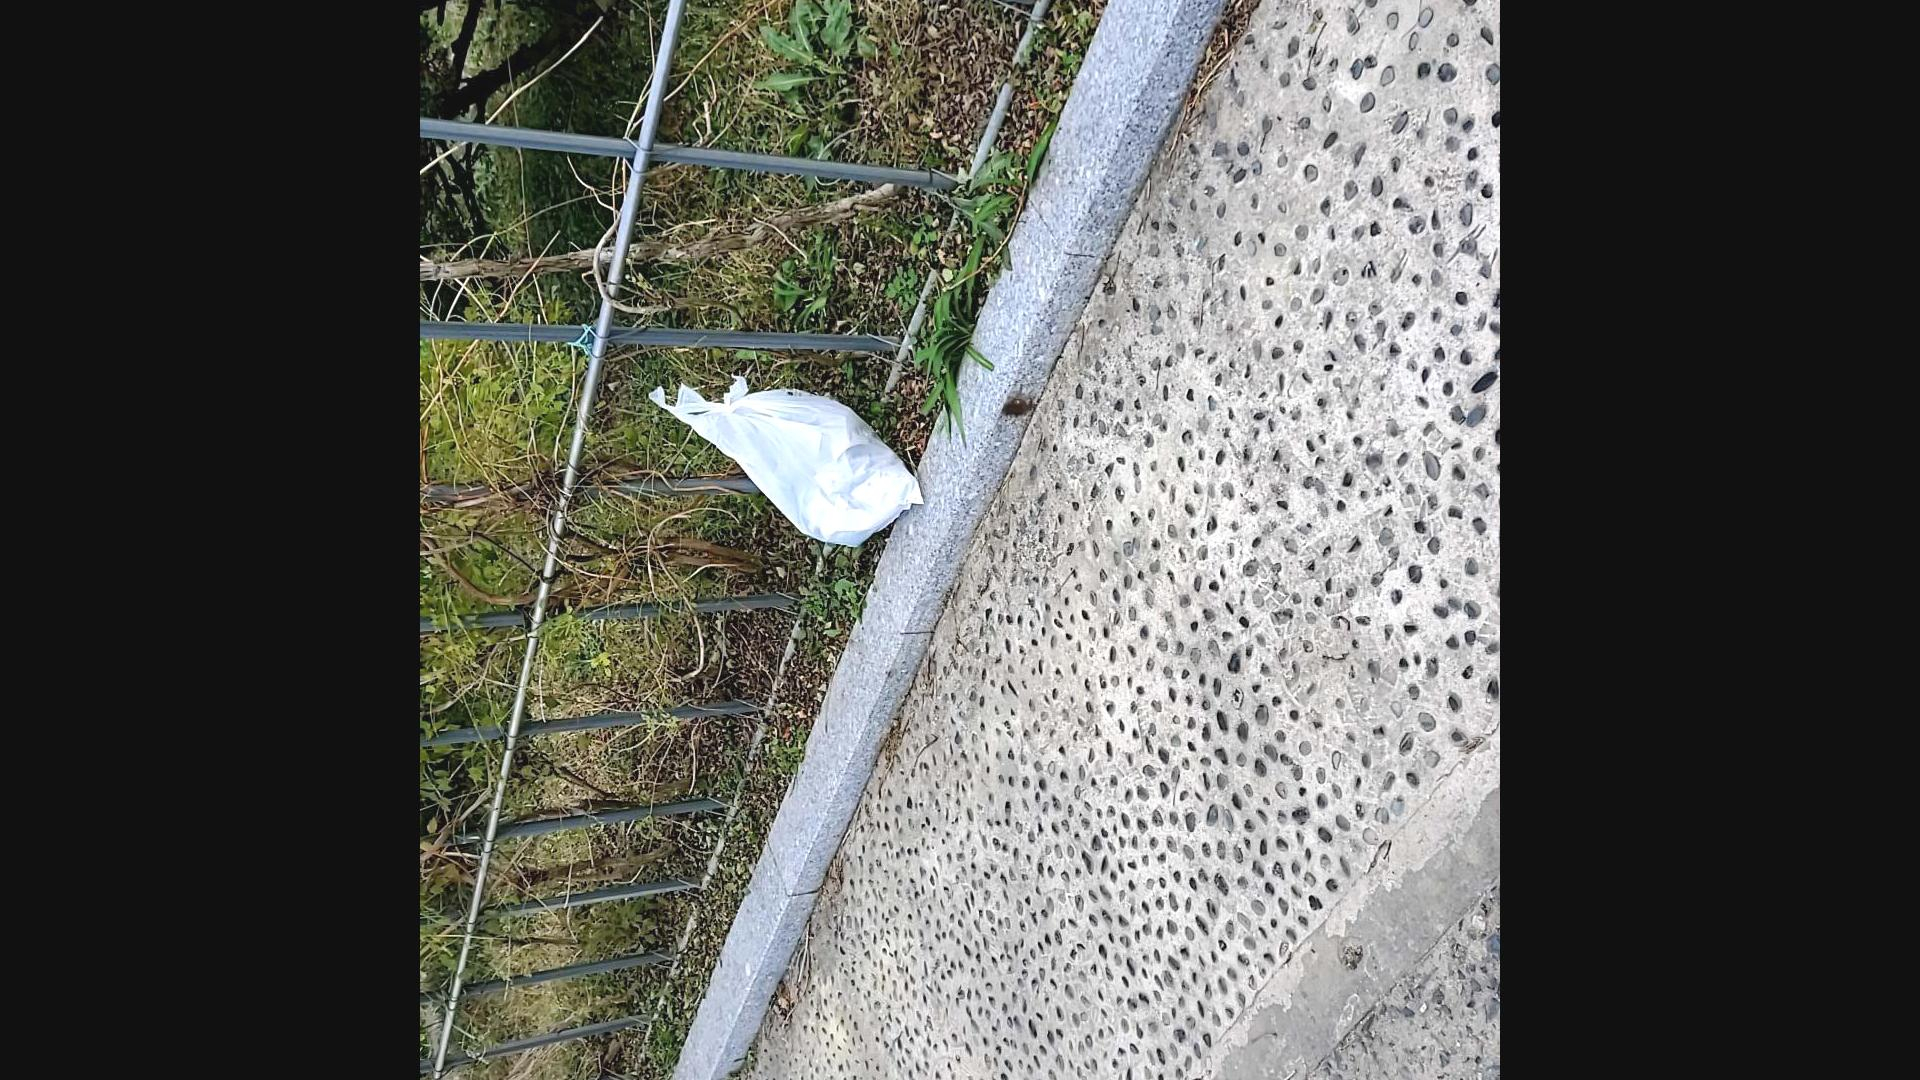white_bag: (626, 353, 936, 574)
